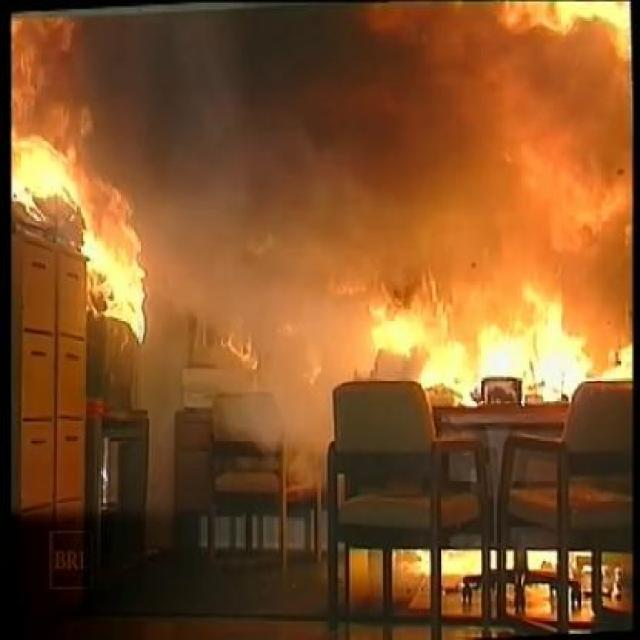fire: (408, 278, 574, 384), (17, 52, 102, 194), (94, 173, 160, 347)
smoke: (166, 53, 292, 290), (317, 124, 385, 293), (228, 316, 316, 438)
